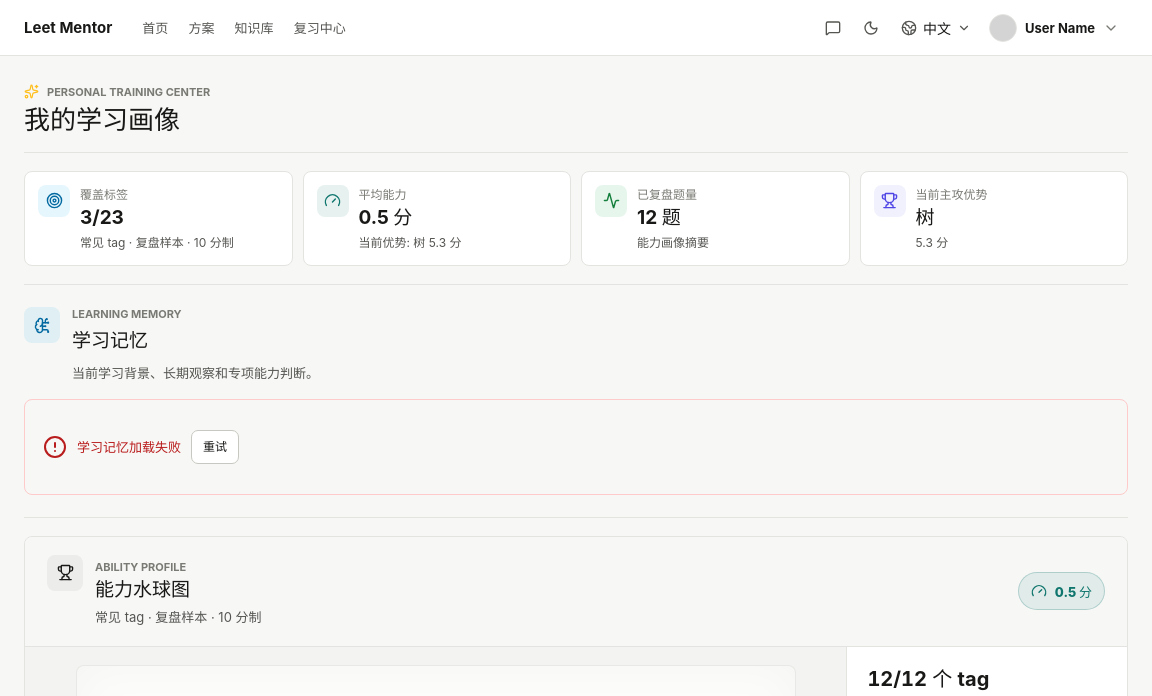
Scenario: App › shows the default hot-tag ability bubbles on the my page
Check: the heading "我的学习画像" is shown, box x1=24 y1=104 x2=180 y2=135
Check: the element labelled "能力画像摘要" is shown, box x1=24 y1=171 x2=1128 y2=266
Click the button "User Name" at (1056, 28), box x1=984 y1=8 x2=1128 y2=46
(page scrolled)
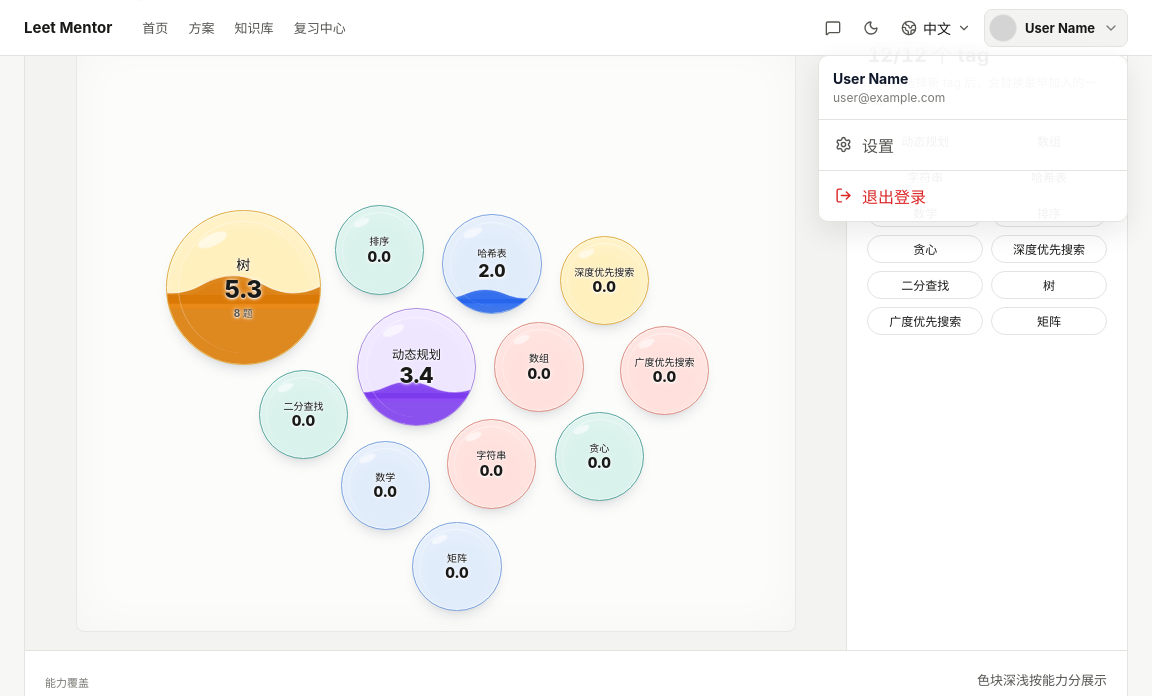
Check: the button "学习画像" is not shown
Check: the button "设置" is shown, box x1=825 y1=126 x2=1121 y2=164
